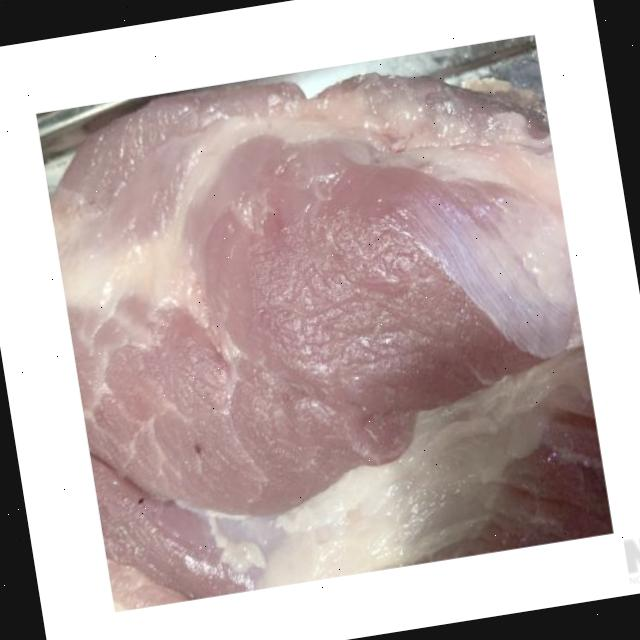rotten meat: (13, 14, 632, 620)
